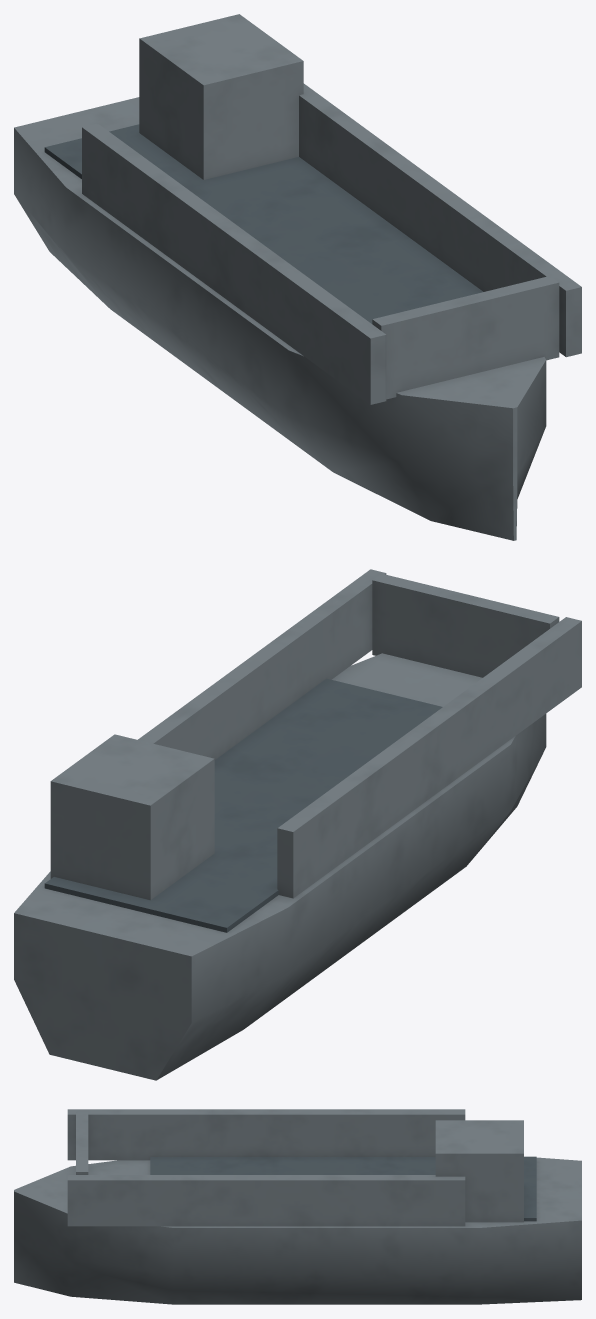
Rendered from naval-landing-craft.fbx.
The picture shows the model from 3 angles, top to bottom: view 1: azimuth 30°, elevation 25°; view 2: azimuth 150°, elevation 25°; view 3: azimuth 270°, elevation 25°; orthographic projection. The views are drawn at different scales.
Visible parts, largest first — view 1: naval-landing-craft; view 2: naval-landing-craft; view 3: naval-landing-craft.
Boxes of the visible parts, <box> form: naval-landing-craft: <box>14,14,581,540</box>; naval-landing-craft: <box>14,569,581,1080</box>; naval-landing-craft: <box>14,1109,581,1304</box>.
Size of the model in its own units: 28 by 28 by 90.
Materials: 1 (1 with a texture image).
